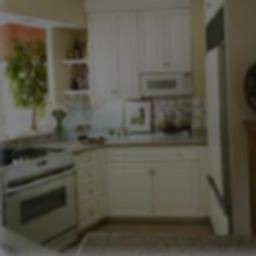Electrodomestico: (4, 164, 81, 252), (204, 50, 232, 233)
